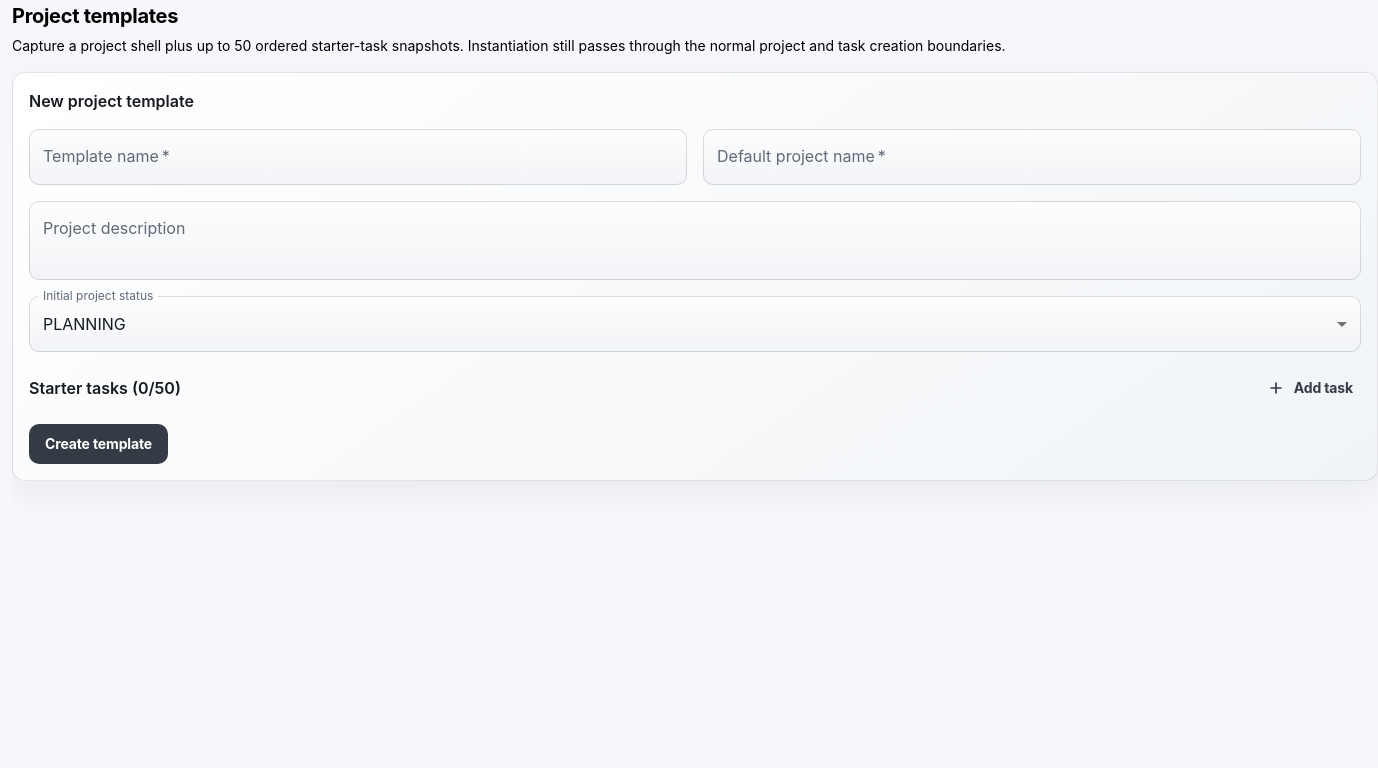
Scenario: ProjectTemplatesPanel › shows the normalized backend reason when saving fails
Type "Temp" into the field labelled "Template name *".
click(358, 157); type("Temp")  # box [29,129,687,185]
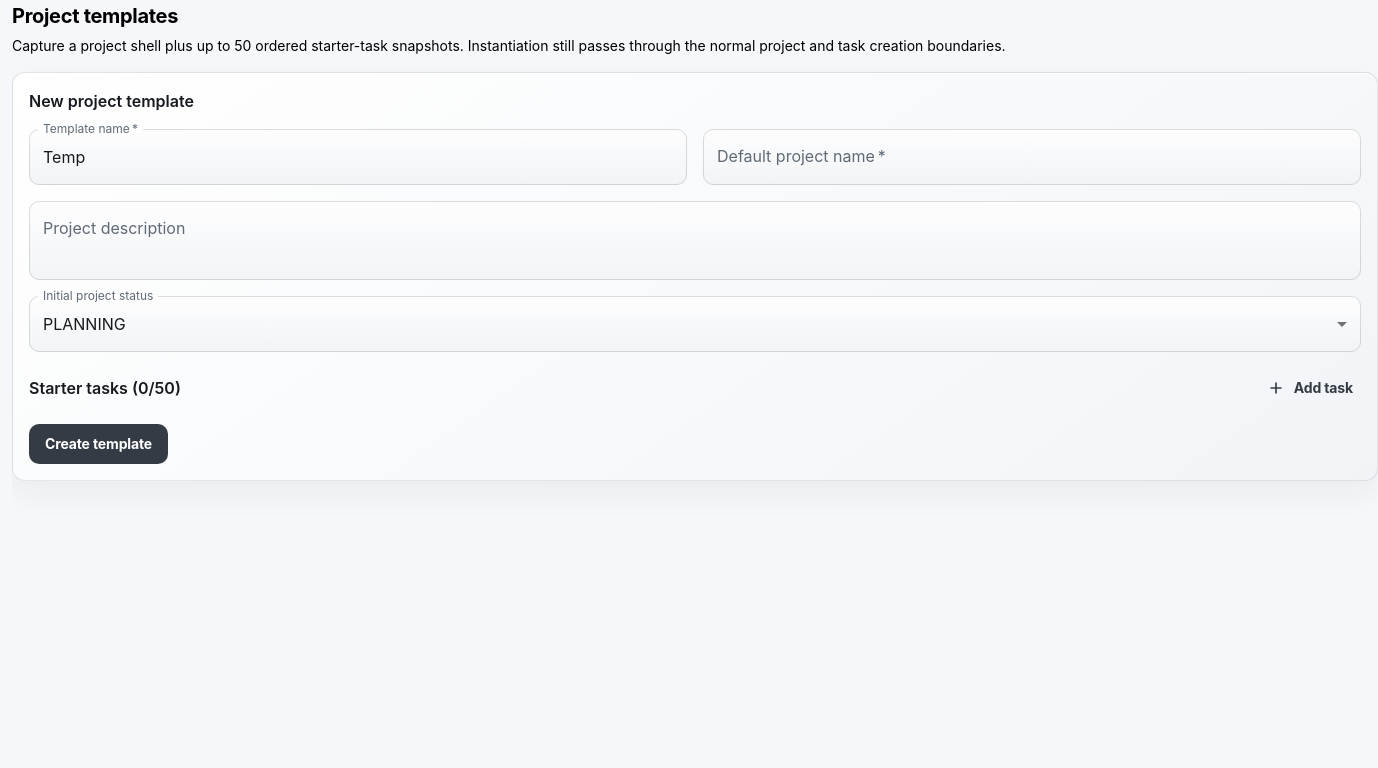
Type "Project1" into the field labelled "Default project name *".
click(1032, 157); type("Project1")  # box [703,129,1361,185]
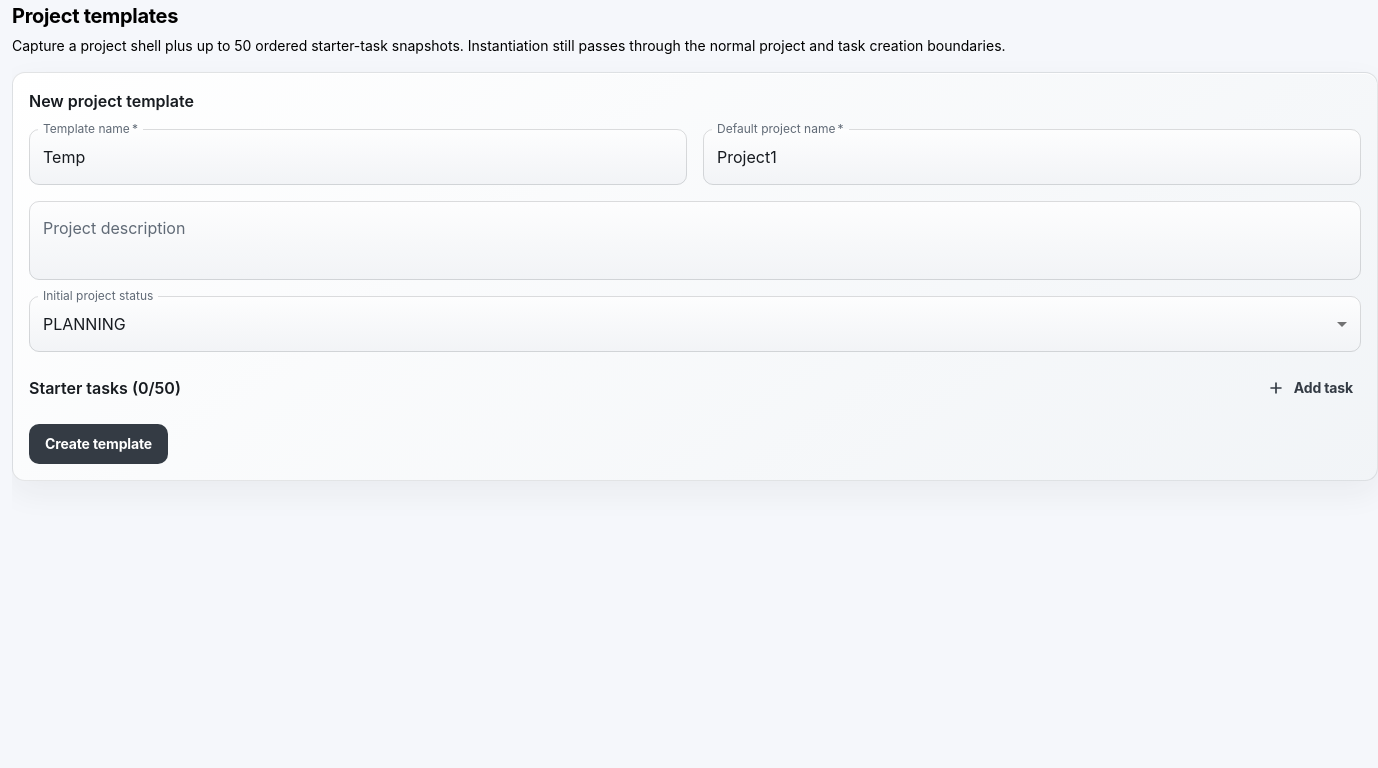
Click the button "Create template".
click(99, 444)  # box [29,424,168,464]
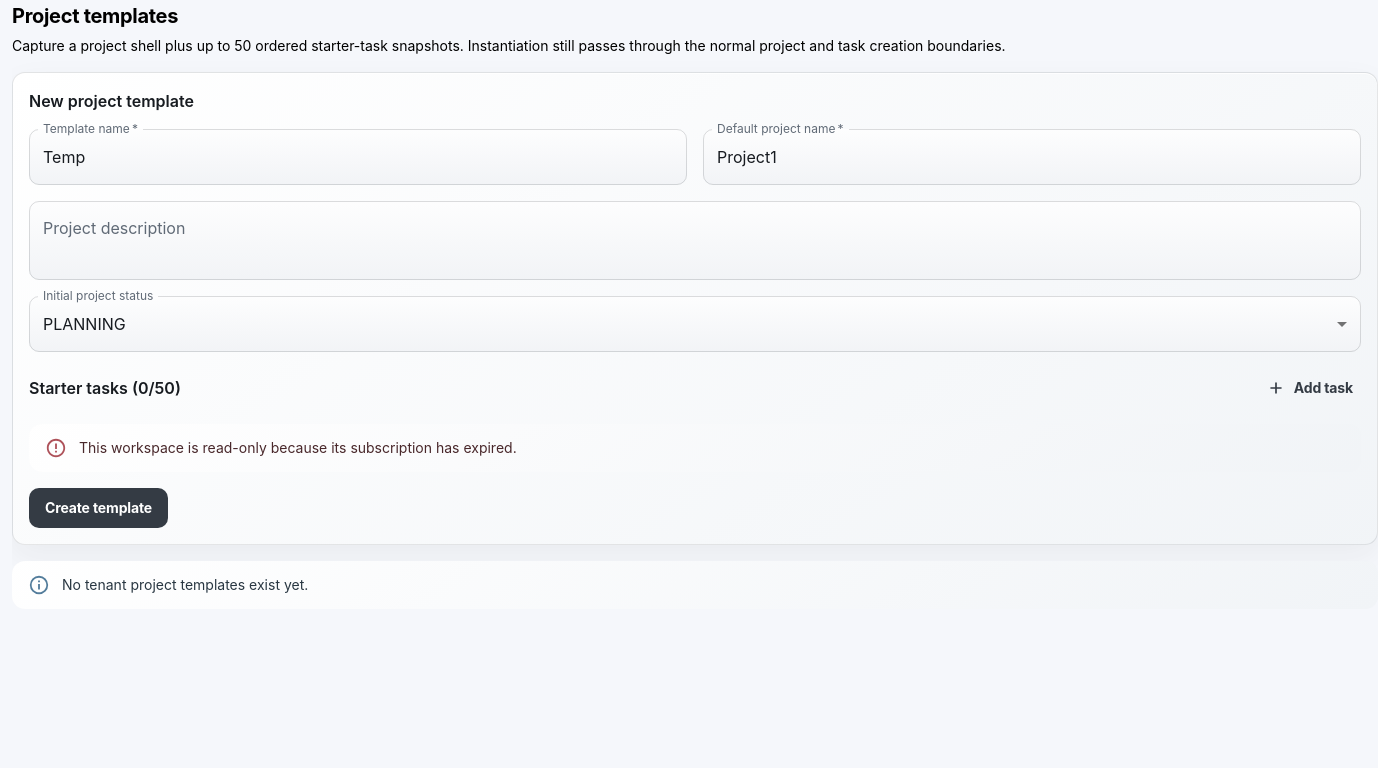
Expected: the text "This workspace is read-only because its subscription has expired." is shown, [79,439,517,456]
